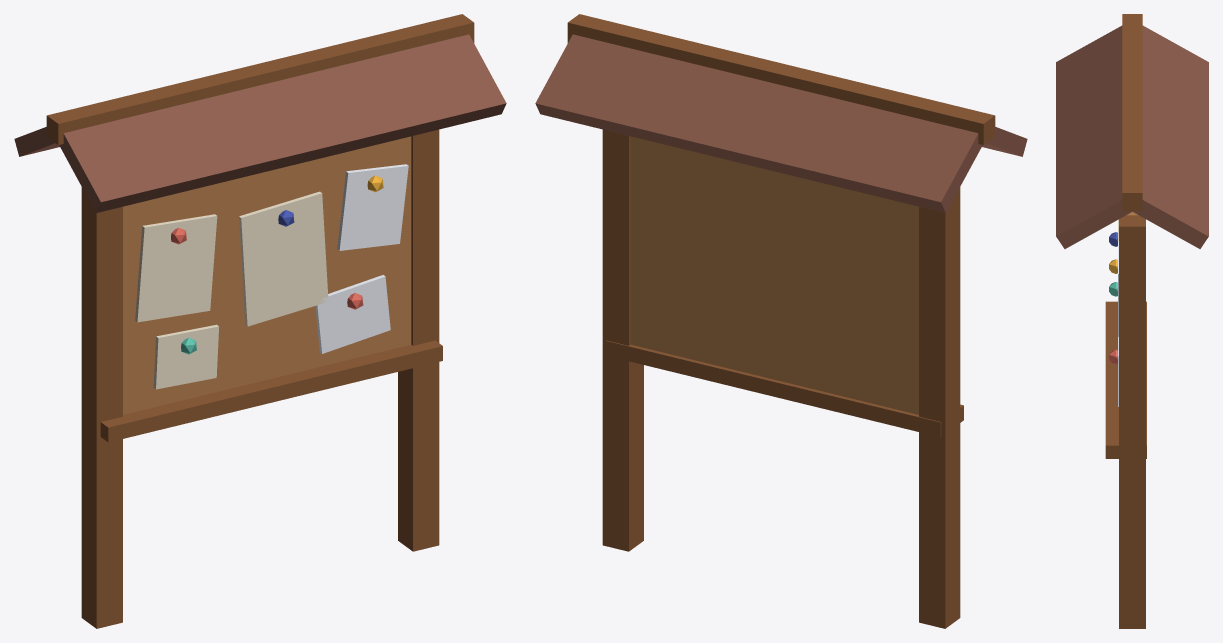
The model's file is notice_board.glb.
3 views of the same model, side by side, from view 1: azimuth 30°, elevation 25°; view 2: azimuth 150°, elevation 25°; view 3: azimuth 270°, elevation 25° (orthographic). The views are drawn at different scales.
Parts seen in each view (by area): view 1: notice_board; view 2: notice_board; view 3: notice_board.
Part boxes in pixels (<box>): notice_board: <box>14,14,506,628</box>; notice_board: <box>535,14,1027,628</box>; notice_board: <box>1056,14,1208,628</box>.
Bounding box in the file's own units: 2.05 × 2.41 × 0.7399.
